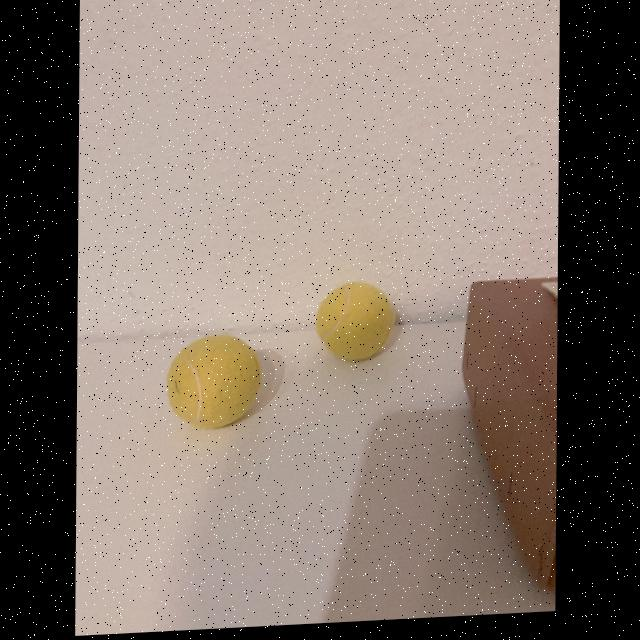Tennisball: (167, 335, 261, 428), (316, 282, 395, 360)
